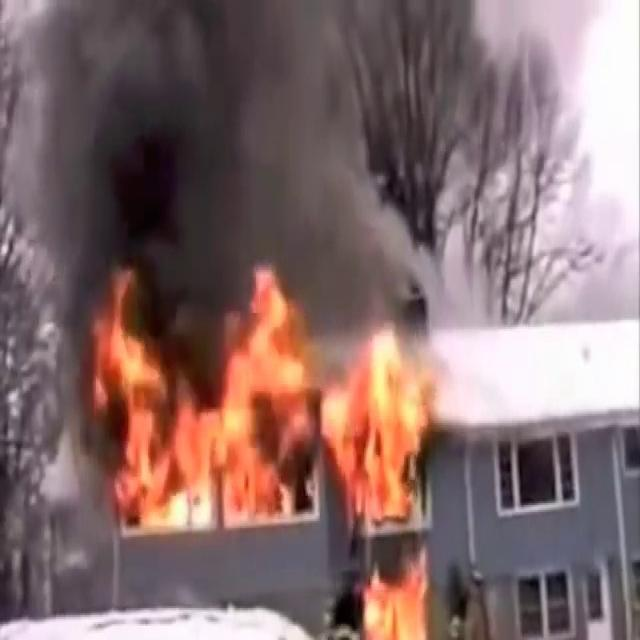Fire: (83, 268, 442, 553)
Smoke: (0, 2, 424, 352)
